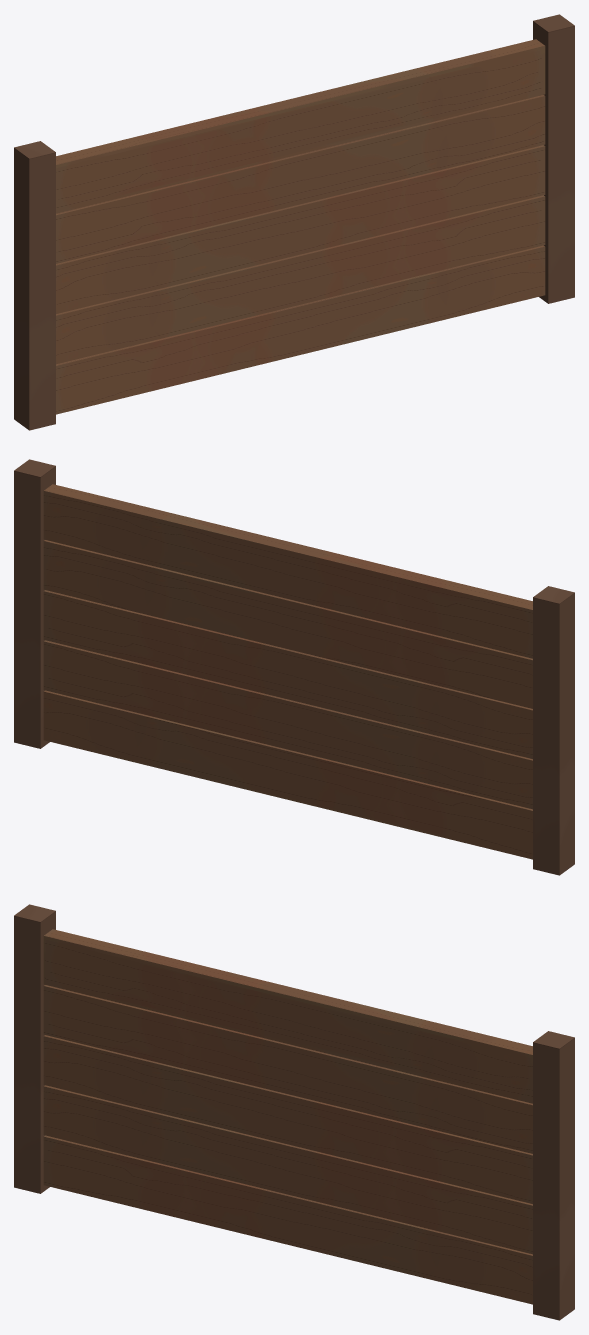
File: MuroMadeira.fbx
3 views of the same model, one above another, from view 1: azimuth 30°, elevation 25°; view 2: azimuth 150°, elevation 25°; view 3: azimuth 330°, elevation 25° (orthographic).
Parts seen in each view (by area): view 1: MuroMadeiraLP; view 2: MuroMadeiraLP; view 3: MuroMadeiraLP.
Boxes of the visible parts, x1,y1,x2,y2 form: MuroMadeiraLP: (14,14,574,430); MuroMadeiraLP: (14,459,574,875); MuroMadeiraLP: (14,904,574,1320).
Bounding box in the file's own units: 398 × 190 × 19.47.
